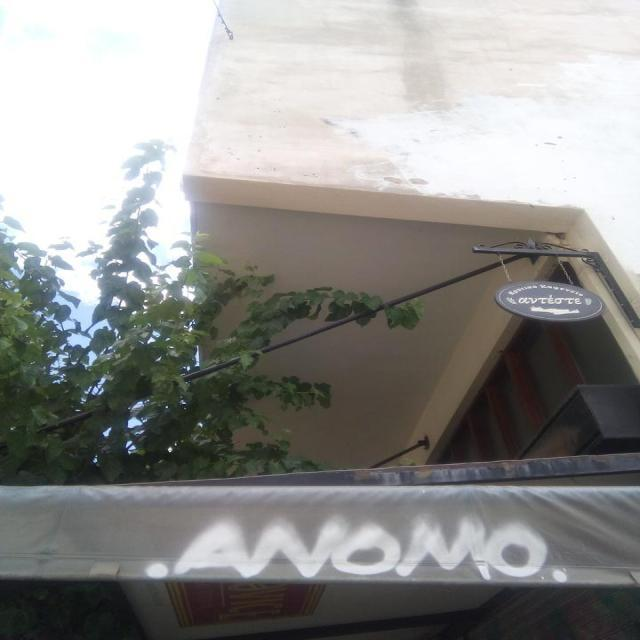nonspitting: (147, 516, 568, 582)
